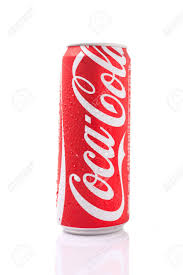coke: (72, 41, 126, 224)
